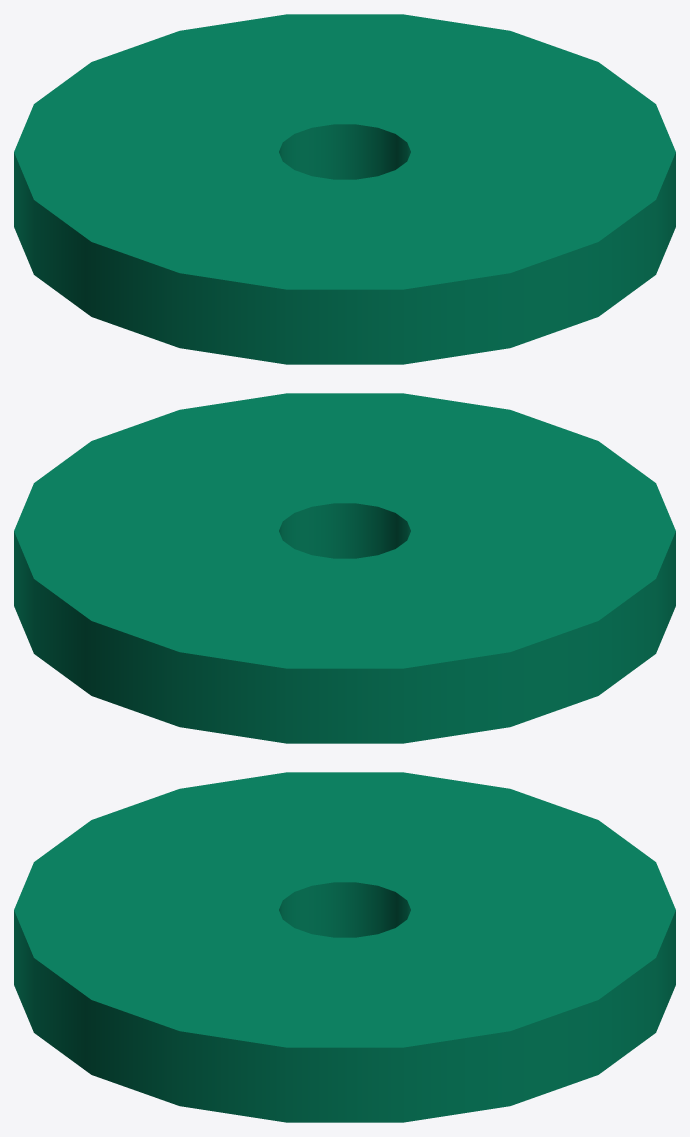
The model's file is Disco6.fbx.
3 renders of one model, top to bottom at view 1: azimuth 30°, elevation 25°; view 2: azimuth 150°, elevation 25°; view 3: azimuth 270°, elevation 25°, orthographic.
Visible parts, largest first — view 1: Disc006; view 2: Disc006; view 3: Disc006.
Part boxes in pixels (left/top/right/bottom): Disc006: left=14, top=14, right=675, bottom=364; Disc006: left=14, top=393, right=675, bottom=743; Disc006: left=14, top=772, right=675, bottom=1122.
Size of the model in its own units: 78.78 by 10 by 80.
